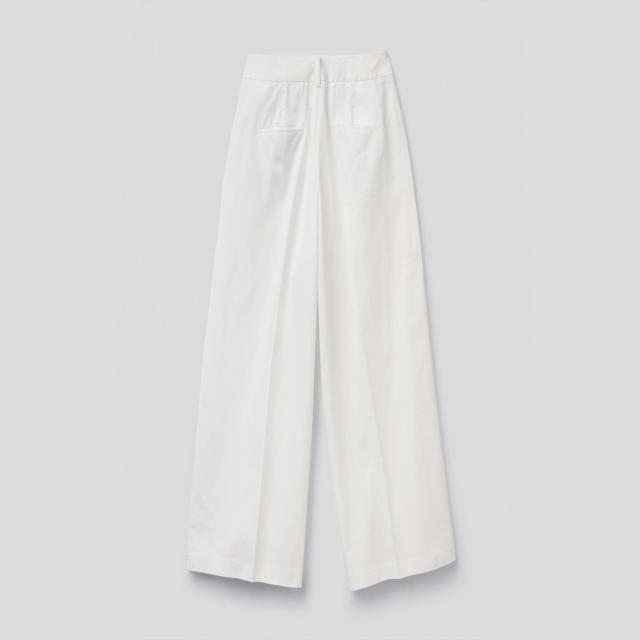long-pants: (185, 54, 459, 596)
